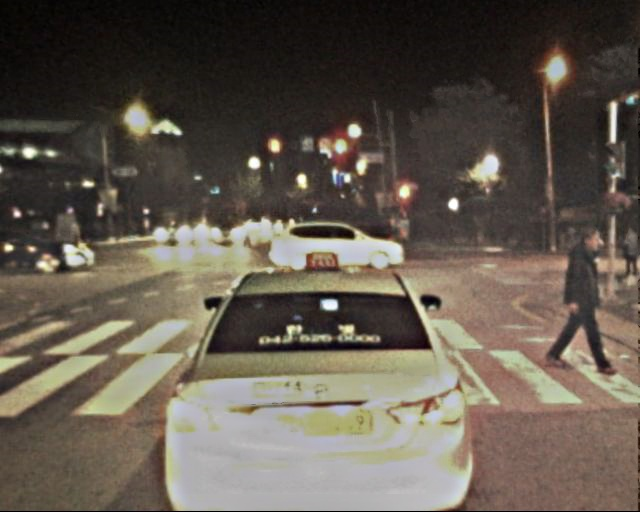person: (554, 226, 616, 376), (618, 225, 640, 284)
